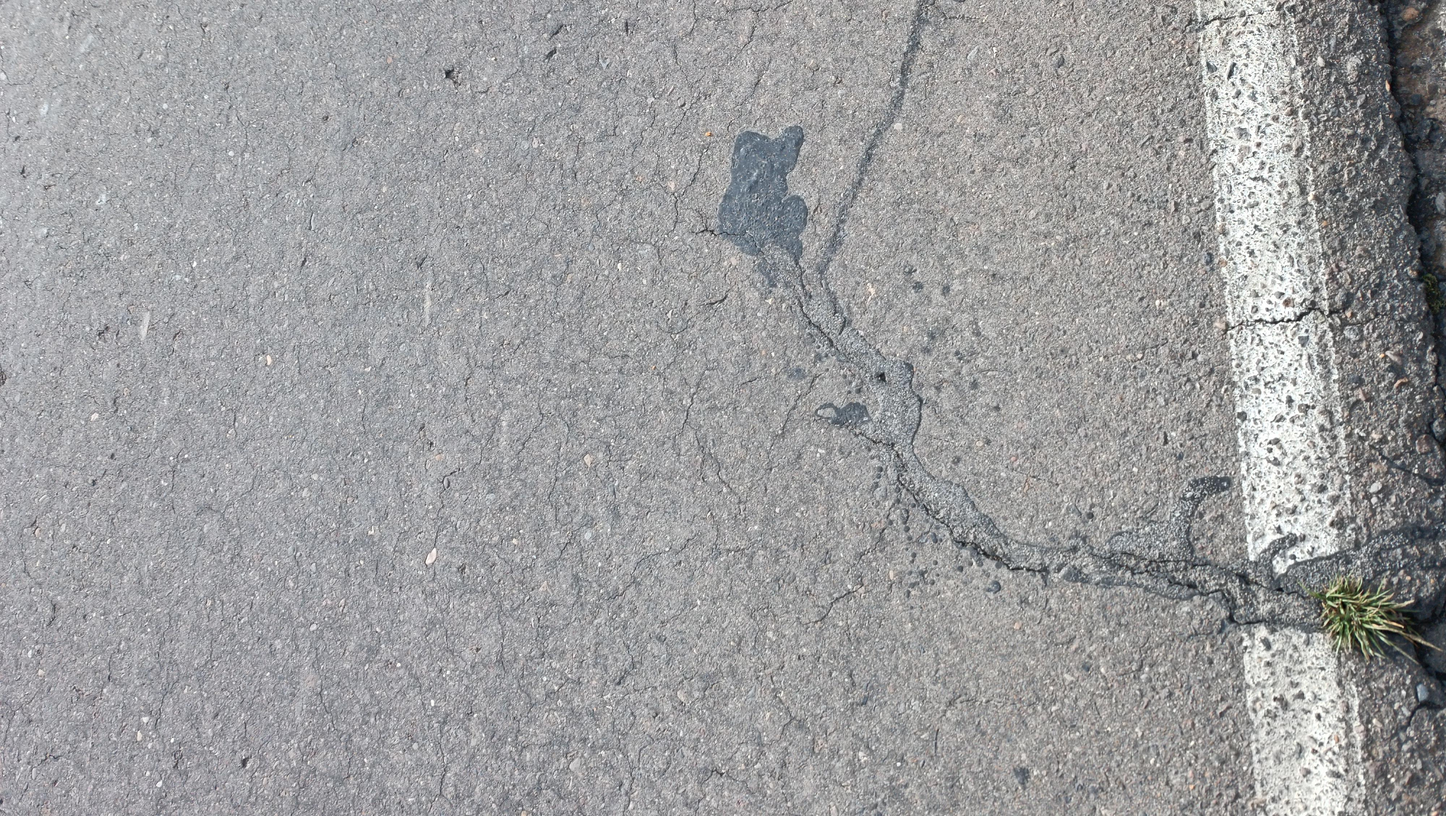GRIETA: (896, 476, 1067, 578), (1109, 550, 1324, 605), (812, 417, 908, 472), (782, 373, 822, 433), (796, 296, 835, 349)
PIEL DE COCODRILO: (302, 0, 787, 359), (372, 370, 762, 806)
